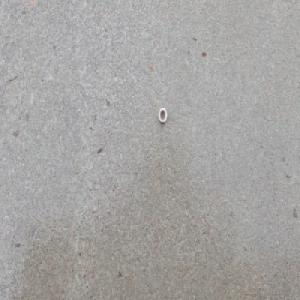Nut: (158, 107, 167, 124)
